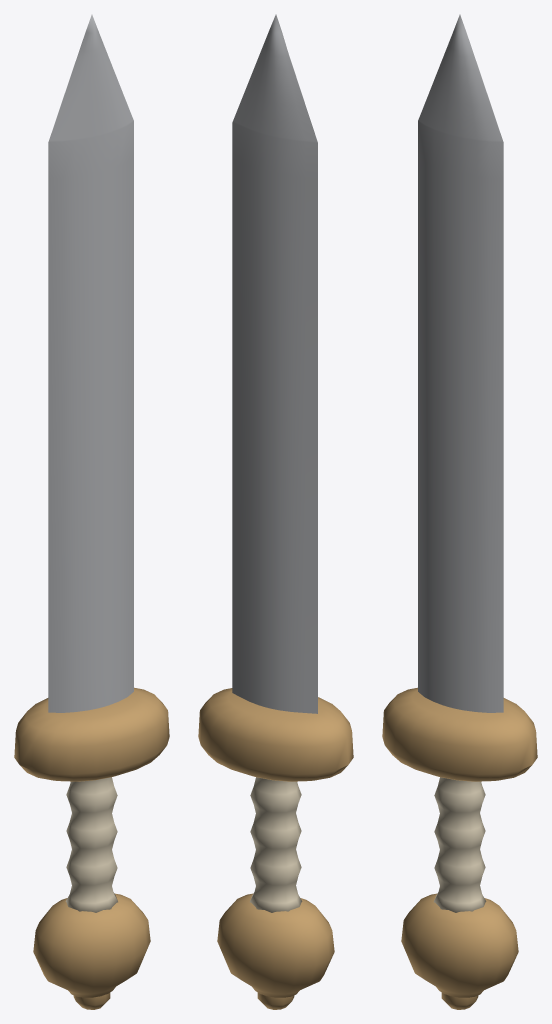
Rendered from gladius.glb.
The picture shows the model from 3 angles, left to right: view 1: azimuth 30°, elevation 25°; view 2: azimuth 150°, elevation 25°; view 3: azimuth 330°, elevation 25°; orthographic projection.
Parts seen in each view (by area): view 1: gladius; view 2: gladius; view 3: gladius.
Boxes of the visible parts, box(x1,y1,x2,y2) form: gladius: box(14, 14, 169, 1009); gladius: box(198, 14, 353, 1009); gladius: box(382, 14, 537, 1009).
Size of the model in its own units: 0.23 by 1.51 by 0.156.
